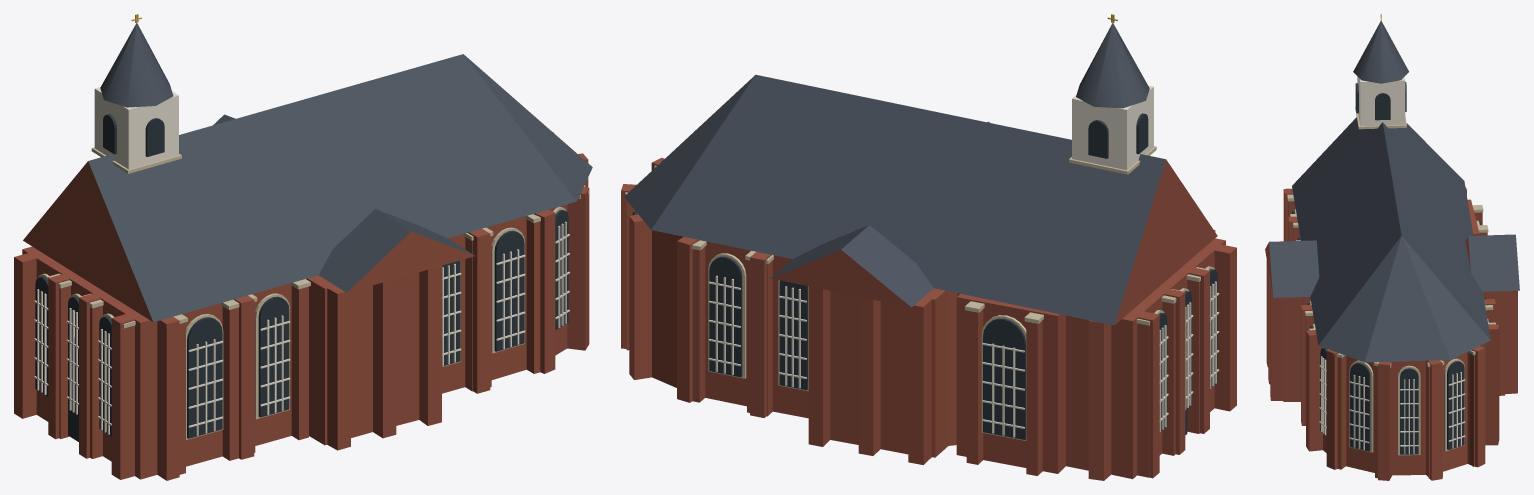
The model's file is buiksloterkerk.glb.
3 views of the same model, side by side, from view 1: azimuth 30°, elevation 25°; view 2: azimuth 150°, elevation 25°; view 3: azimuth 270°, elevation 25° (orthographic). The views are drawn at different scales.
Visible parts, largest first — view 1: buiksloterkerk; view 2: buiksloterkerk; view 3: buiksloterkerk.
Part boxes in pixels (<box>): buiksloterkerk: <box>14,14,592,480</box>; buiksloterkerk: <box>621,14,1236,480</box>; buiksloterkerk: <box>1265,14,1519,480</box>.
Bounding box in the file's own units: 32.41 × 23.8 × 18.13.
